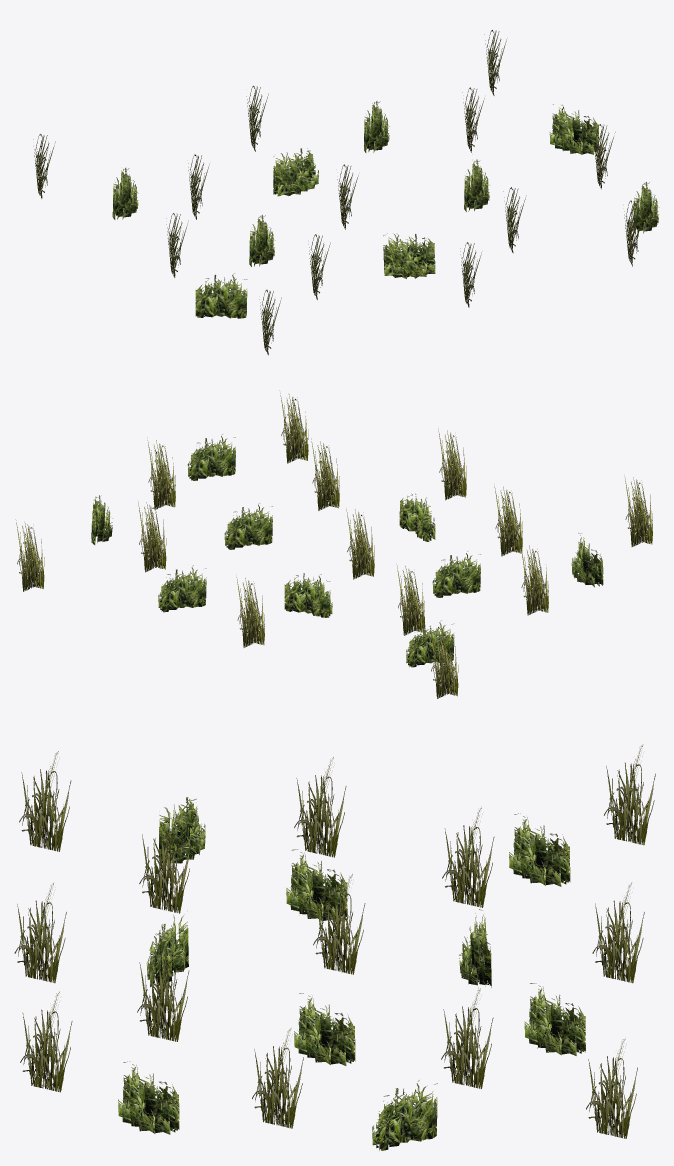
Rendered from multipleGrass.obj.
3 views of the same model, one above another, from view 1: azimuth 30°, elevation 25°; view 2: azimuth 150°, elevation 25°; view 3: azimuth 270°, elevation 25° (orthographic). The views are drawn at different scales.
Parts seen in each view (by area): view 1: material_0.001; view 2: material_0.001; view 3: material_0.001.
Boxes of the visible parts, x1,y1,x2,y2 form: material_0.001: (33, 30, 659, 355); material_0.001: (15, 390, 652, 698); material_0.001: (14, 744, 655, 1150).
Size of the model in its own units: 68.71 by 10.18 by 58.66.
Materials: 22 (22 with a texture image).
